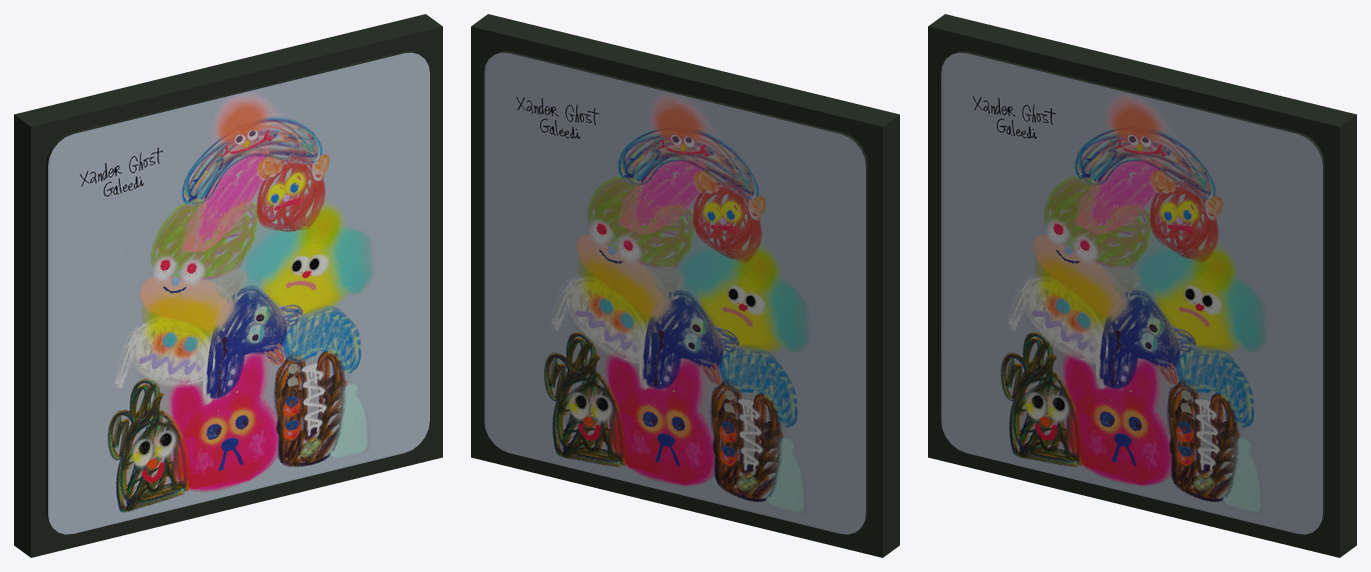
The model's file is galeedi.gltf.
The picture shows the model from 3 angles, left to right: view 1: azimuth 30°, elevation 25°; view 2: azimuth 150°, elevation 25°; view 3: azimuth 330°, elevation 25°; orthographic projection.
Parts seen in each view (by area): view 1: cube; view 2: cube; view 3: cube.
Part boxes in pixels (x1,y1,x2,y2): cube: [14, 14, 442, 557]; cube: [471, 14, 899, 557]; cube: [928, 14, 1356, 557].
Bounding box in the file's own units: 2 × 2 × 0.1757.
2 materials, 1 textured.
